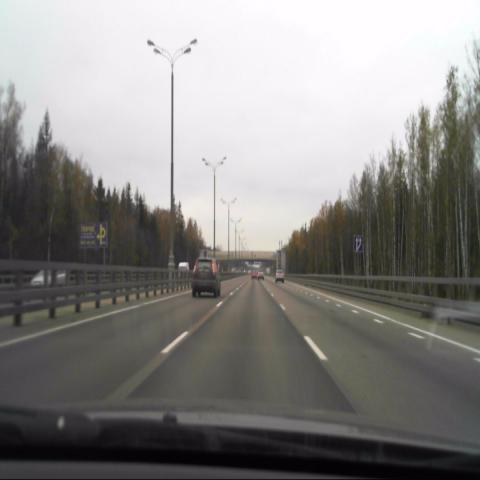5_15_3: (353, 235, 363, 253)
